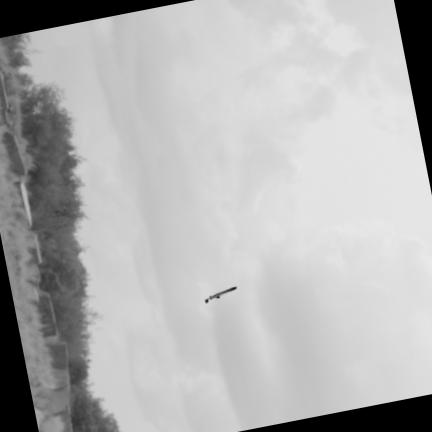Shahed: (205, 287, 236, 303)
